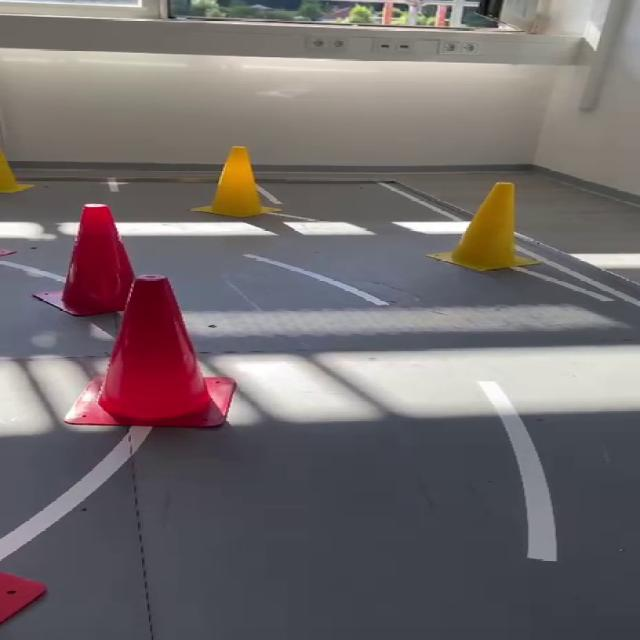Cone-red: (65, 275, 234, 427), (34, 204, 134, 316), (0, 573, 46, 624)
Cones-yellow: (430, 182, 538, 271), (194, 147, 276, 217), (0, 148, 32, 192)
